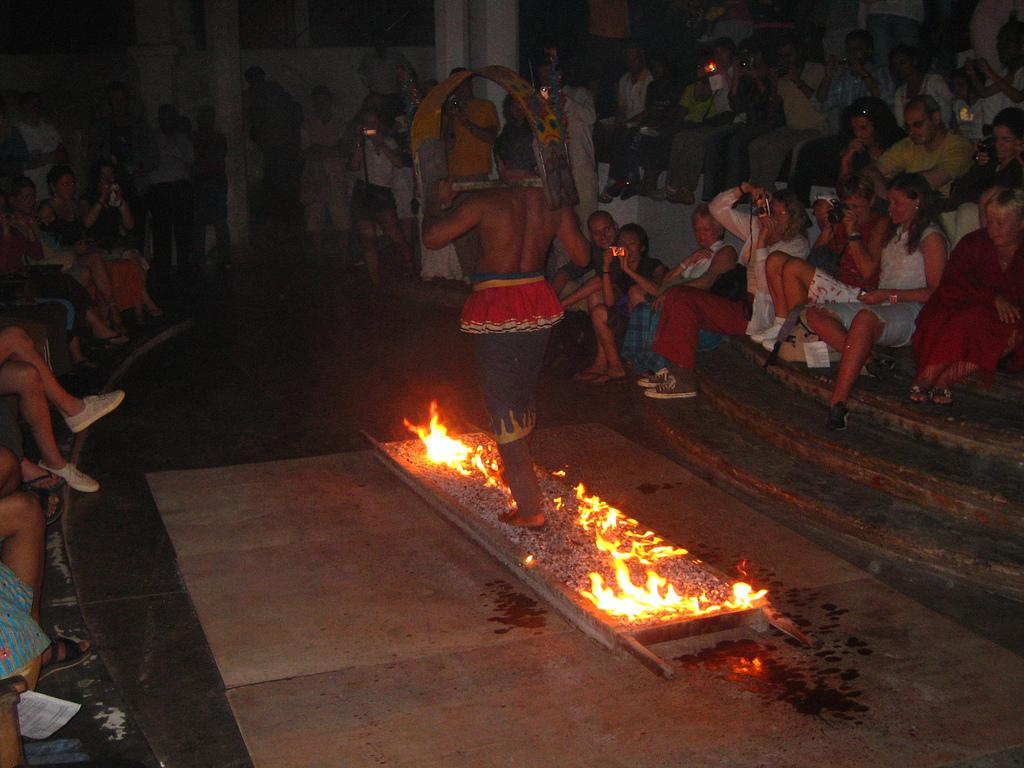fire: (610, 580, 676, 618), (420, 420, 470, 468)
